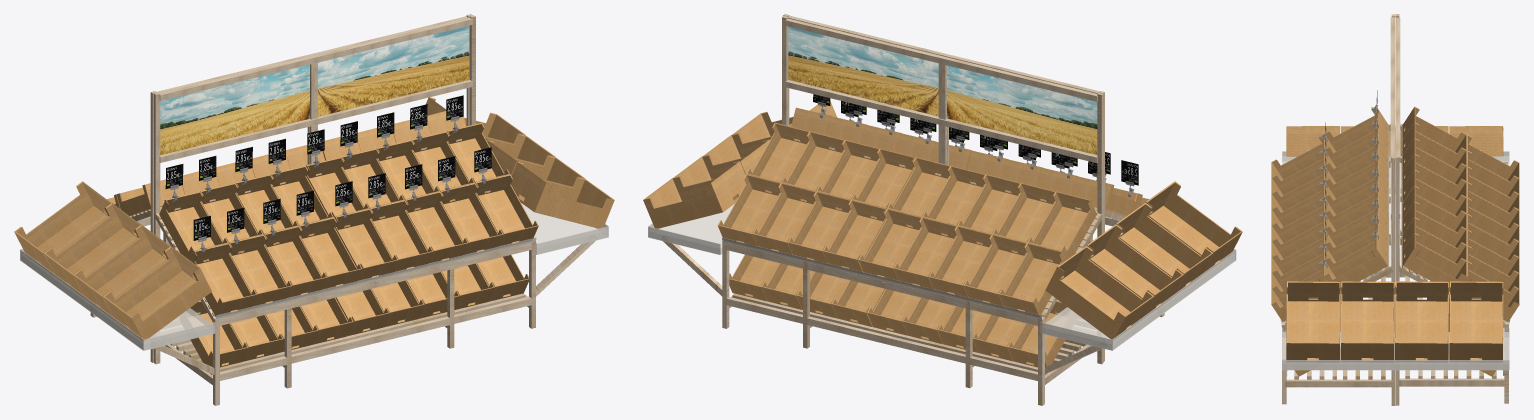
File: mueble fruteria.glb
3 renders of one model, left to right at view 1: azimuth 30°, elevation 25°; view 2: azimuth 150°, elevation 25°; view 3: azimuth 270°, elevation 25°, orthographic. The views are drawn at different scales.
Parts seen in each view (by area): view 1: Mesh_66.001, Mesh_104.027, Mesh_104.061, Mesh_104.055, Mesh_104.057, Mesh_104.056, Mesh_62, Mesh_68, Mesh_169.003, Mesh_104.009, Mesh_169, Mesh_104.013 (+51 smaller); view 2: Mesh_66.001, Mesh_104.057, Mesh_104.058, Mesh_104.056, Mesh_104.027, Mesh_104.055, Mesh_62.001, Mesh_68.001, Mesh_104.045, Mesh_169.002, Mesh_169.001, Mesh_104.036 (+52 smaller); view 3: Mesh_104.058, Mesh_104.061, Mesh_104.060, Mesh_104.059, Mesh_5.002, Mesh_104.008, Mesh_2, Mesh_104.028, Mesh_104.057, Mesh_104.027, Mesh_104.032, Mesh_104.030 (+43 smaller).
Part boxes in pixels (<box>): Mesh_66.001: <box>160,26,469,154</box>; Mesh_104.027: <box>103,246,211,340</box>; Mesh_104.061: <box>511,162,614,228</box>; Mesh_104.055: <box>73,224,170,318</box>; Mesh_104.057: <box>14,181,111,275</box>; Mesh_104.056: <box>44,203,140,296</box>; Mesh_62: <box>220,296,531,380</box>; Mesh_68: <box>219,242,531,325</box>; Mesh_169.003: <box>159,17,472,100</box>; Mesh_104.009: <box>190,243,257,316</box>; Mesh_169: <box>159,79,472,162</box>; Mesh_104.013: <box>334,208,398,282</box>; Mesh_66.001: <box>788,26,1097,154</box>; Mesh_104.057: <box>1045,246,1154,339</box>; Mesh_104.058: <box>643,161,745,228</box>; Mesh_104.056: <box>1086,224,1183,317</box>; Mesh_104.027: <box>1145,181,1242,273</box>; Mesh_104.055: <box>1116,203,1213,295</box>; Mesh_62.001: <box>726,297,1037,380</box>; Mesh_68.001: <box>726,242,1037,325</box>; Mesh_104.045: <box>999,242,1065,316</box>; Mesh_169.002: <box>785,18,1097,101</box>; Mesh_169.001: <box>785,80,1097,163</box>; Mesh_104.036: <box>1027,191,1096,260</box>; Mesh_104.058: <box>1449,281,1503,361</box>; Mesh_104.061: <box>1286,281,1340,361</box>; Mesh_104.060: <box>1340,281,1394,361</box>; Mesh_104.059: <box>1395,281,1448,361</box>; Mesh_5.002: <box>1282,360,1508,370</box>; Mesh_104.008: <box>1323,233,1387,291</box>; Mesh_2: <box>1282,332,1508,369</box>; Mesh_104.028: <box>1403,233,1467,290</box>; Mesh_104.057: <box>1449,126,1503,156</box>; Mesh_104.027: <box>1286,126,1339,156</box>; Mesh_104.032: <box>1403,169,1467,216</box>; Mesh_104.030: <box>1403,201,1467,248</box>.
Size of the model in its own units: 0.7432 by 0.3963 by 0.3603.
Materials: 7 (5 with a texture image).
